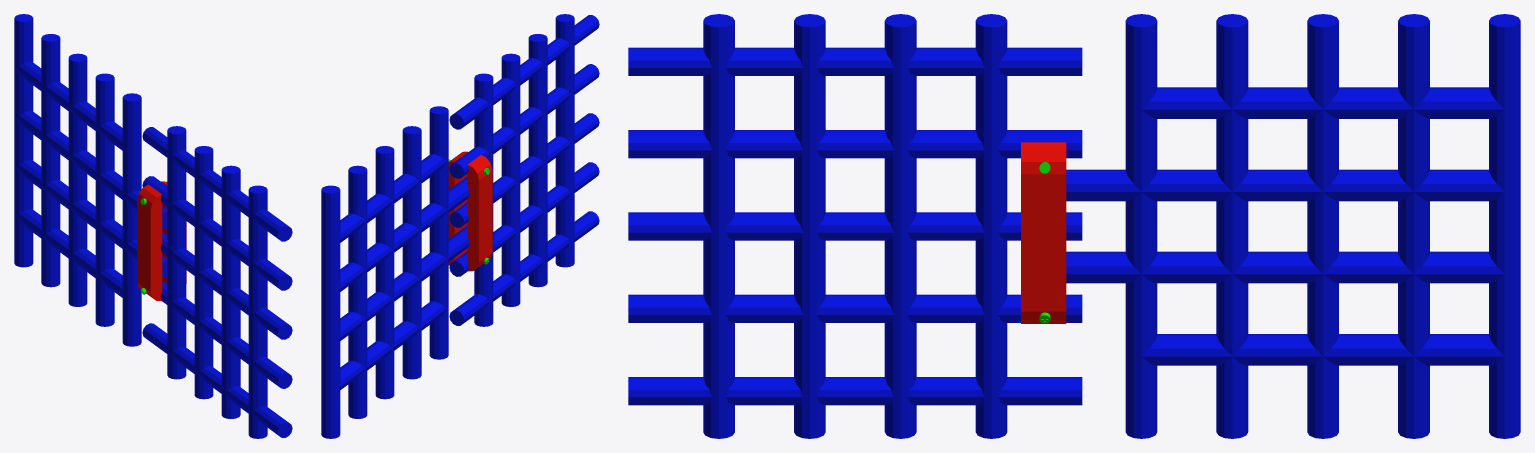
The model's file is Grille.fbx.
3 views of the same model, side by side, from view 1: azimuth 30°, elevation 25°; view 2: azimuth 150°, elevation 25°; view 3: azimuth 270°, elevation 25° (orthographic). The views are drawn at different scales.
Parts seen in each view (by area): view 1: Grille, Grille-Open; view 2: Grille-Open, Grille, Locker; view 3: Grille-Open, Grille, Locker.
Boxes of the visible parts, x1=… form: Grille: x1=137, y1=126, x2=292, y2=438; Grille-Open: x1=14, y1=14, x2=167, y2=346; Grille-Open: x1=321, y1=106, x2=469, y2=438; Grille: x1=449, y1=14, x2=599, y2=326; Locker: x1=448, y1=151, x2=467, y2=265; Grille-Open: x1=1066, y1=14, x2=1520, y2=438; Grille: x1=628, y1=14, x2=1082, y2=438; Locker: x1=1021, y1=142, x2=1066, y2=323.
Bounding box in the file's own units: 34.95 × 200 × 393.
